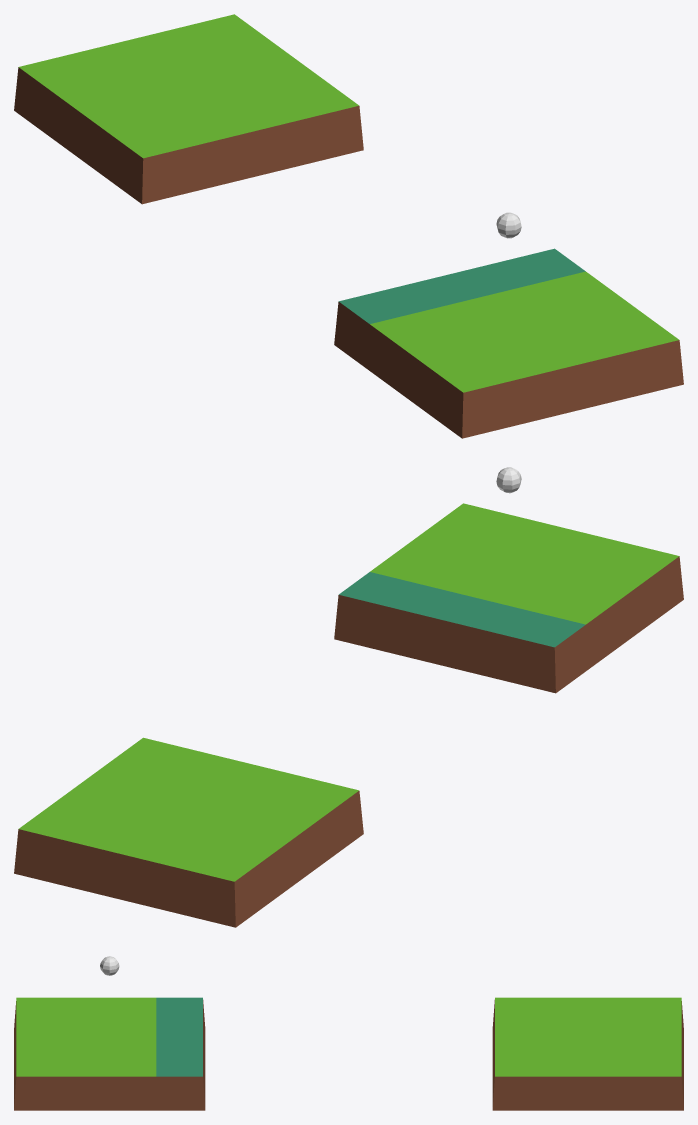
File: level1.glb
3 renders of one model, top to bottom at view 1: azimuth 30°, elevation 25°; view 2: azimuth 150°, elevation 25°; view 3: azimuth 270°, elevation 25°, orthographic. The views are drawn at different scales.
Parts seen in each view (by area): view 1: basic-moveable, basic-fixed; view 2: basic-fixed, basic-moveable; view 3: basic-moveable, basic-fixed, ball.
Boxes of the visible parts, box(x1,y1,x2,y2) form: basic-moveable: box(334, 248, 683, 438); basic-fixed: box(14, 14, 363, 204); basic-fixed: box(14, 737, 363, 927); basic-moveable: box(334, 503, 683, 693); basic-moveable: box(14, 997, 205, 1110); basic-fixed: box(492, 997, 683, 1110); ball: box(100, 956, 119, 975).
Bounding box in the file's own units: 2 × 1.3 × 7.
2 materials, 2 textured.
